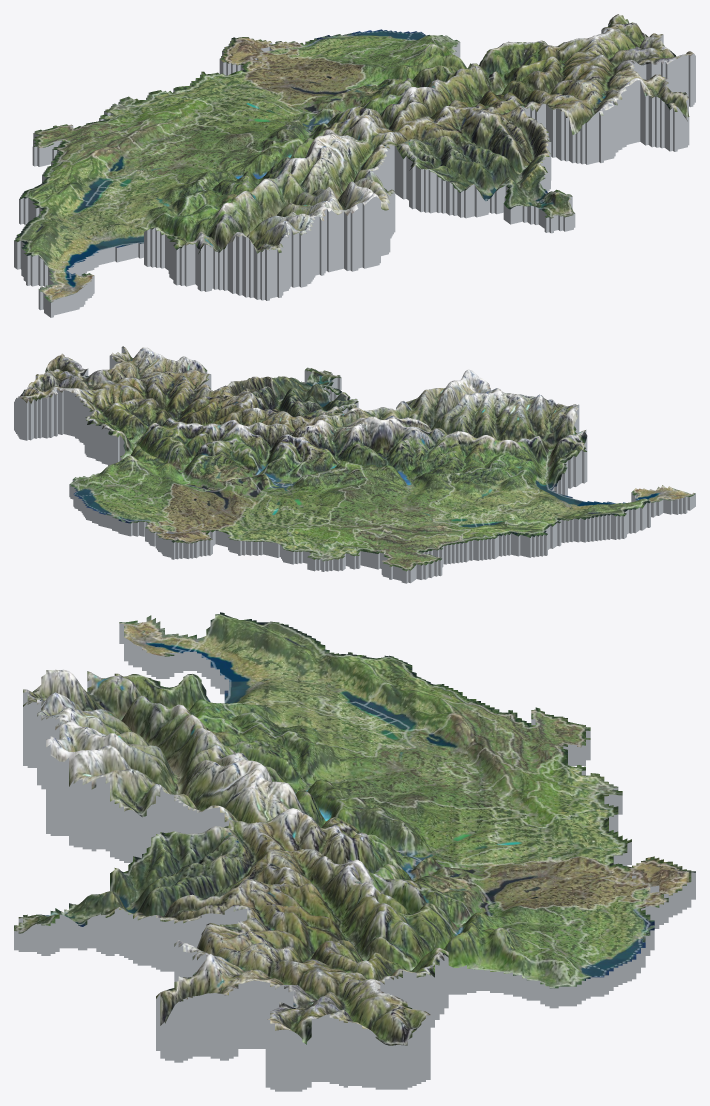
File: switzerland_3d_relief.glb
3 views of the same model, one above another, from view 1: azimuth 30°, elevation 25°; view 2: azimuth 150°, elevation 25°; view 3: azimuth 270°, elevation 25° (orthographic). The views are drawn at different scales.
Parts seen in each view (by area): view 1: Switzerland3DRelief; view 2: Switzerland3DRelief; view 3: Switzerland3DRelief.
Part boxes in pixels (box(x1,y1,x2,y2)): Switzerland3DRelief: box(14, 14, 695, 317); Switzerland3DRelief: box(14, 346, 695, 583); Switzerland3DRelief: box(14, 612, 695, 1091).
Bounding box in the file's own units: 34.95 × 3.38 × 22.4.
2 materials, 1 textured.
